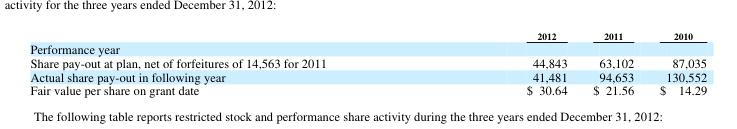table: (29, 28, 706, 98)
table column: (29, 28, 425, 98), (425, 28, 579, 98), (579, 28, 646, 98), (646, 28, 706, 98)
table column header: (29, 28, 706, 40)
table projected row header: (29, 40, 706, 54)
table row: (29, 82, 706, 98), (29, 40, 706, 54), (29, 54, 706, 68), (29, 68, 706, 82), (29, 28, 706, 40)
